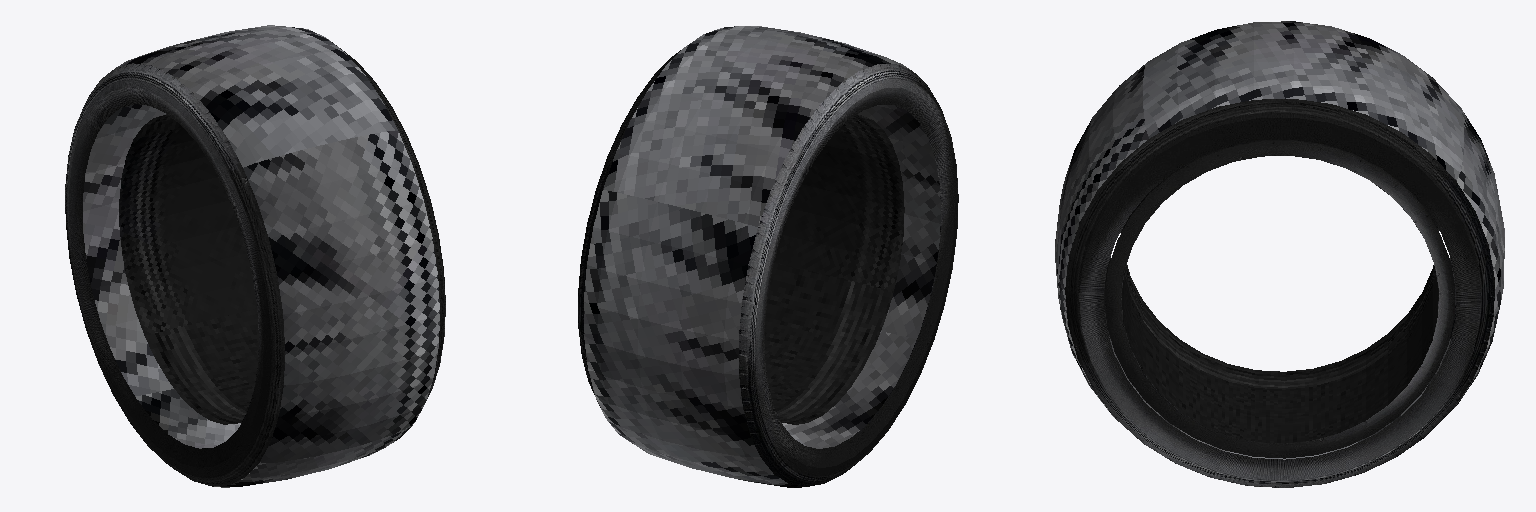
3 views of the same model, side by side, from view 1: azimuth 30°, elevation 25°; view 2: azimuth 150°, elevation 25°; view 3: azimuth 270°, elevation 25° (orthographic).
Visible parts, largest first — view 1: Llanta2_Carro; view 2: Llanta2_Carro; view 3: Llanta2_Carro.
Boxes of the visible parts, box(x1,y1,x2,y2) form: Llanta2_Carro: box(65, 25, 445, 487); Llanta2_Carro: box(578, 26, 958, 487); Llanta2_Carro: box(1055, 21, 1504, 487).
Size of the model in its own units: 9.67 by 21.02 by 21.01.
Materials: 1 (1 with a texture image).